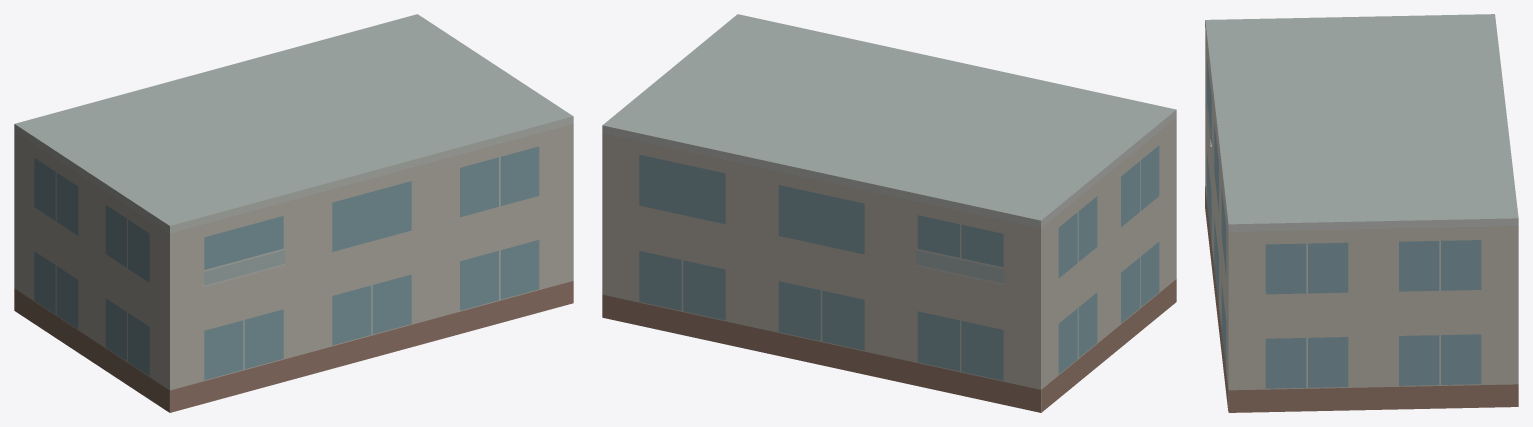
The model's file is survey-upis-32802874.glb.
3 views of the same model, side by side, from view 1: azimuth 30°, elevation 25°; view 2: azimuth 150°, elevation 25°; view 3: azimuth 270°, elevation 25° (orthographic). The views are drawn at different scales.
Visible parts, largest first — view 1: survey-upis-32802874.tmp; view 2: survey-upis-32802874.tmp; view 3: survey-upis-32802874.tmp.
Boxes of the visible parts, box(x1,y1,x2,y2) form: survey-upis-32802874.tmp: box(14, 14, 573, 412); survey-upis-32802874.tmp: box(602, 14, 1176, 412); survey-upis-32802874.tmp: box(1205, 14, 1518, 412).
Size of the model in its own units: 14.6 by 6.1 by 9.2.
